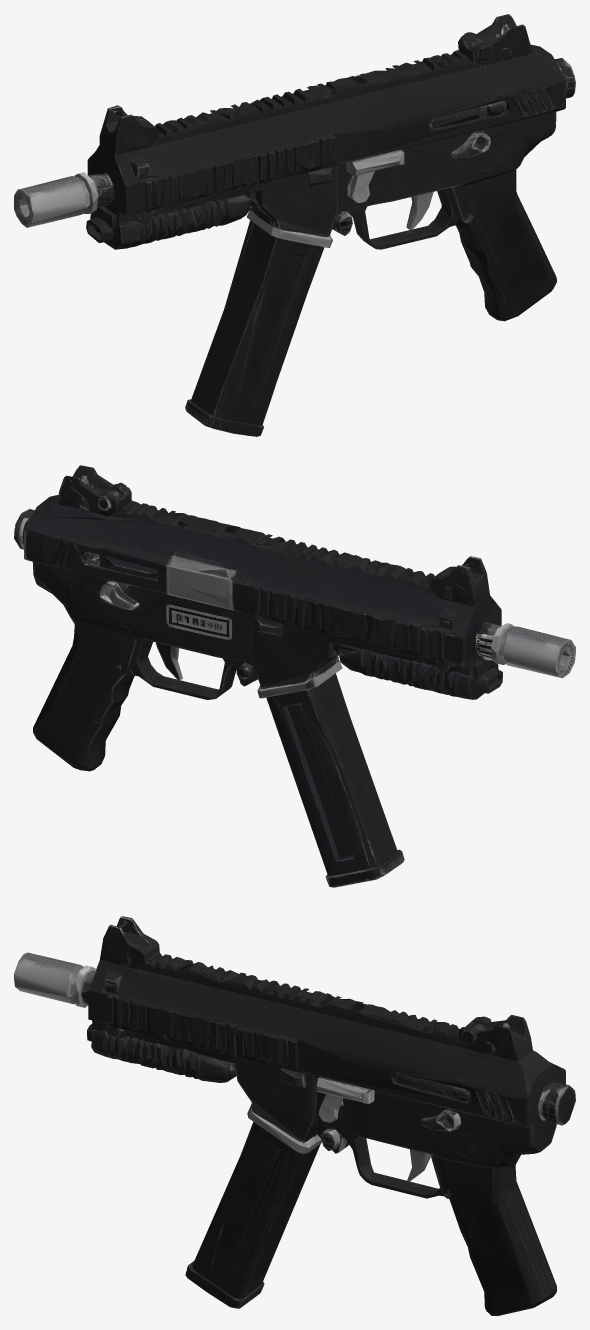
The model's file is smg.glb.
3 views of the same model, one above another, from view 1: azimuth 30°, elevation 25°; view 2: azimuth 150°, elevation 25°; view 3: azimuth 330°, elevation 25° (orthographic).
Size of the model in its own units: 1.9 by 1.16 by 0.2513.
Materials: 1 (1 with a texture image).
